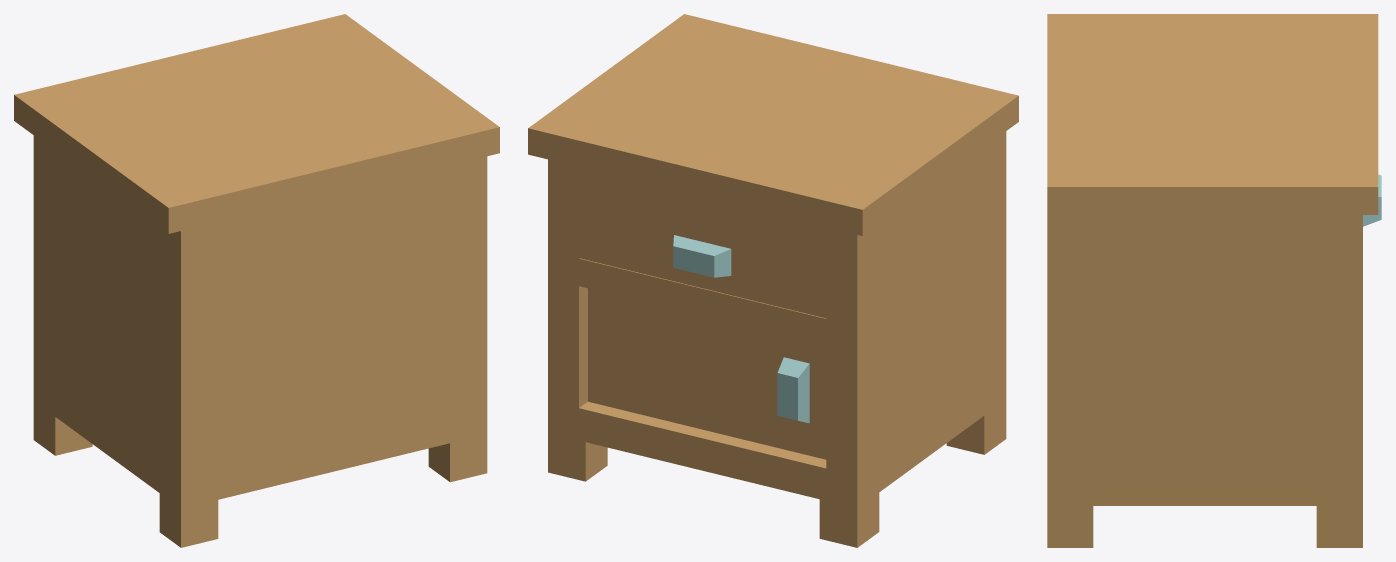
Rendered from cabinetBedDrawer.glb.
3 renders of one model, left to right at view 1: azimuth 30°, elevation 25°; view 2: azimuth 150°, elevation 25°; view 3: azimuth 270°, elevation 25°, orthographic. The views are drawn at different scales.
Size of the model in its own units: 2.66 by 2.63 by 2.17.
